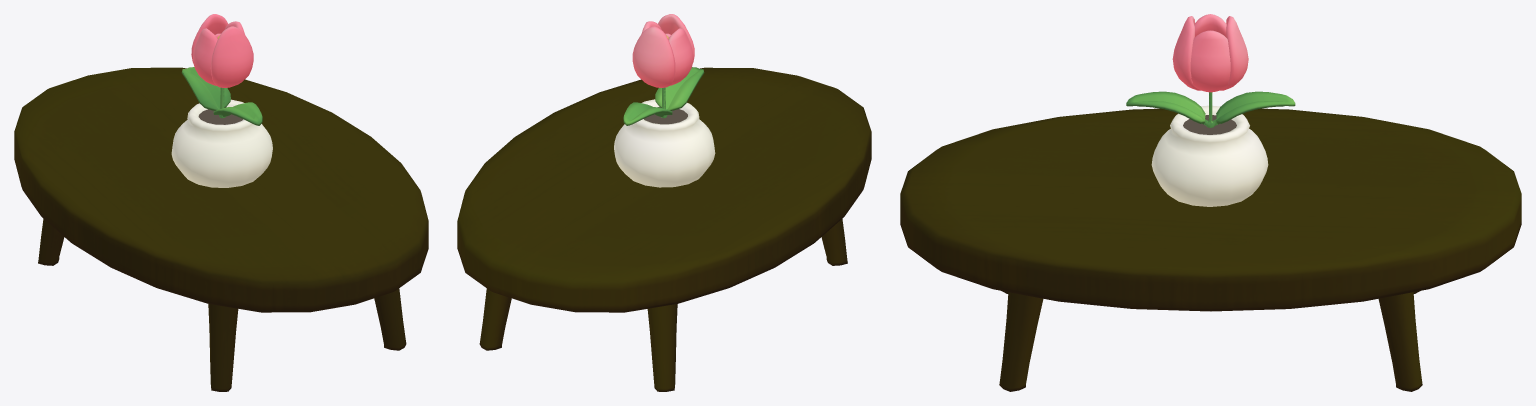
The model's file is desk-small.glb.
3 views of the same model, side by side, from view 1: azimuth 30°, elevation 25°; view 2: azimuth 150°, elevation 25°; view 3: azimuth 270°, elevation 25° (orthographic). The views are drawn at different scales.
Parts seen in each view (by area): view 1: room3_desk_small, room3_plant; view 2: room3_desk_small, room3_plant; view 3: room3_desk_small, room3_plant.
Part boxes in pixels (box(x1,y1,x2,y2)): room3_desk_small: box(14, 67, 428, 391); room3_plant: box(171, 14, 272, 187); room3_desk_small: box(457, 67, 871, 391); room3_plant: box(614, 14, 715, 187); room3_desk_small: box(900, 108, 1521, 391); room3_plant: box(1126, 14, 1295, 206).
Bounding box in the file's own units: 2.18 × 1.95 × 3.4.
2 materials, 2 textured.
